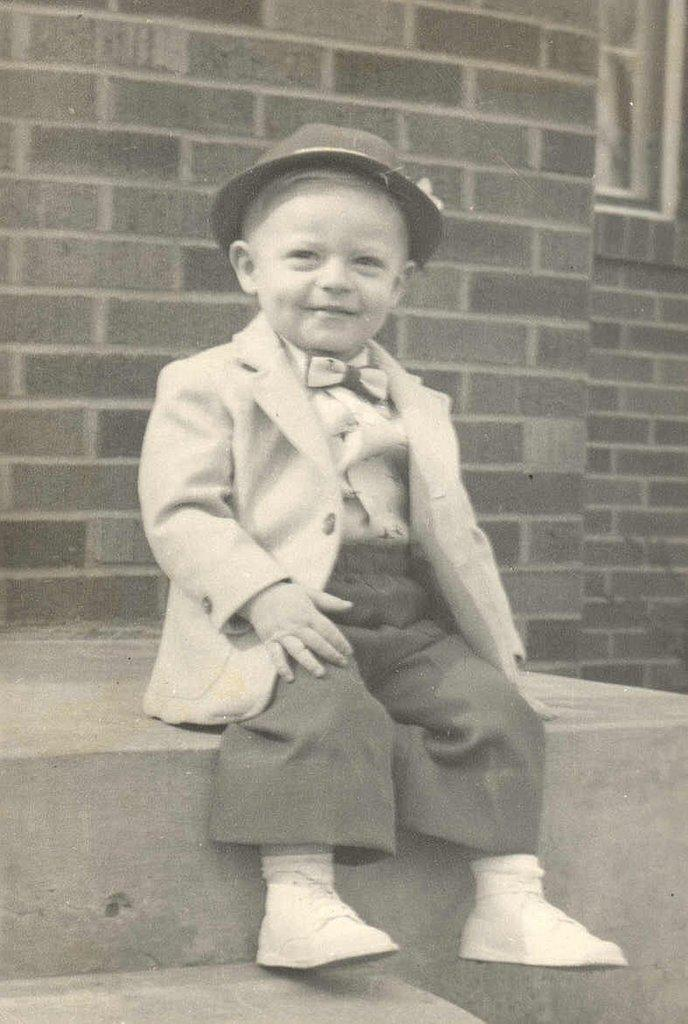Hat: (210, 120, 444, 252)
